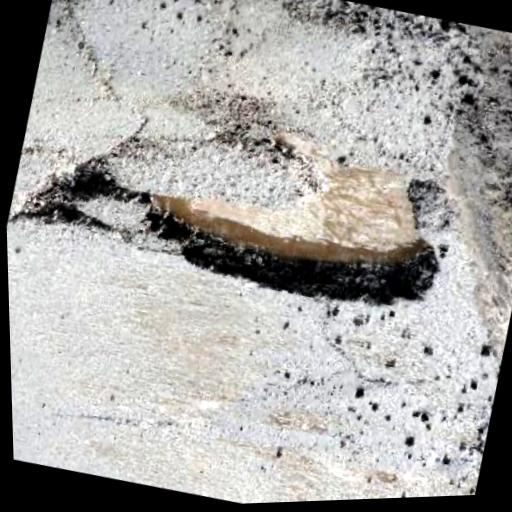pothole: (119, 94, 470, 338), (10, 134, 139, 247)
